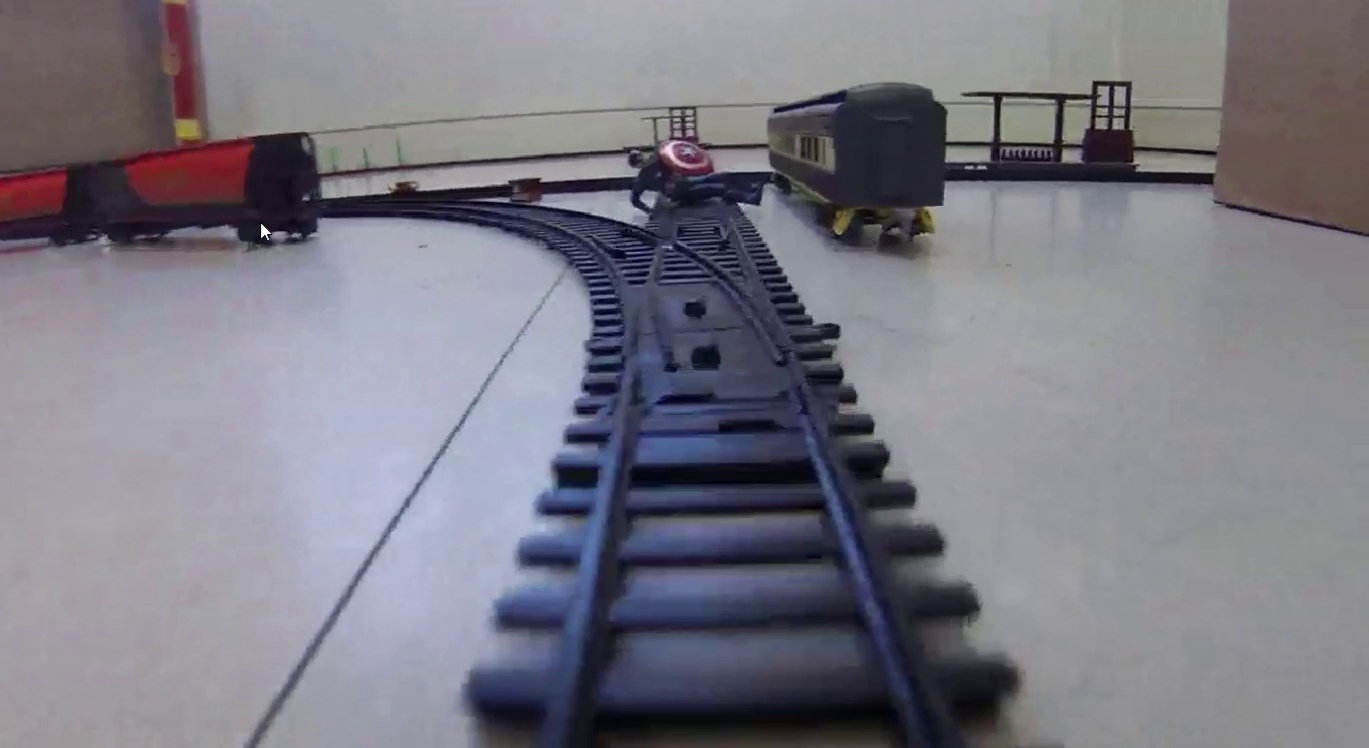people: (627, 142, 777, 207)
